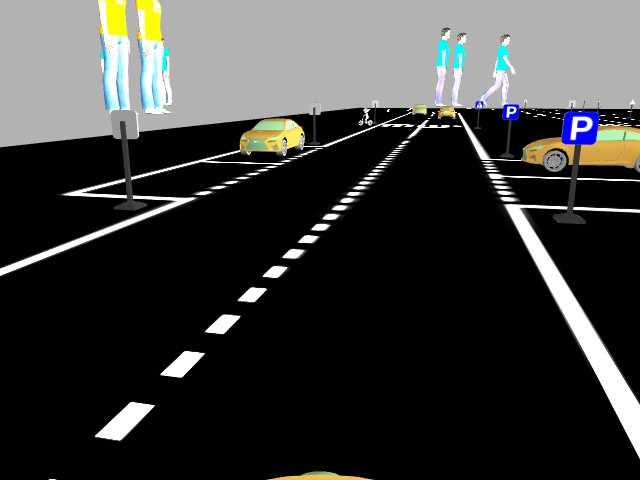Parking: (563, 111, 599, 147), (502, 104, 518, 119)
